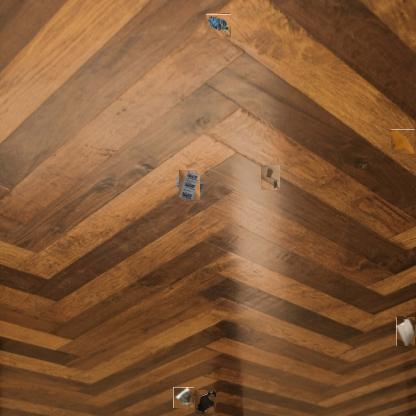dirty: (176, 172, 202, 198), (206, 14, 231, 38), (396, 316, 415, 346), (260, 164, 280, 190), (173, 387, 194, 408)
liquid: (392, 129, 416, 154), (193, 391, 217, 414)
